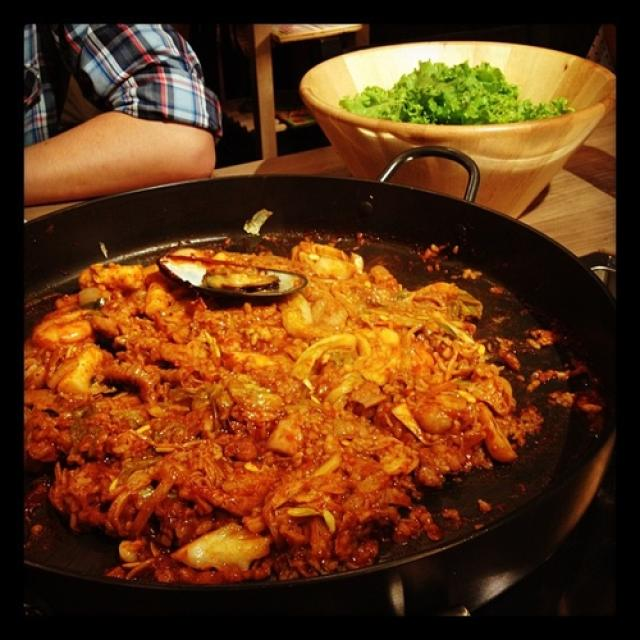鸡肉料理 含炸鸡: (45, 195, 594, 608)
